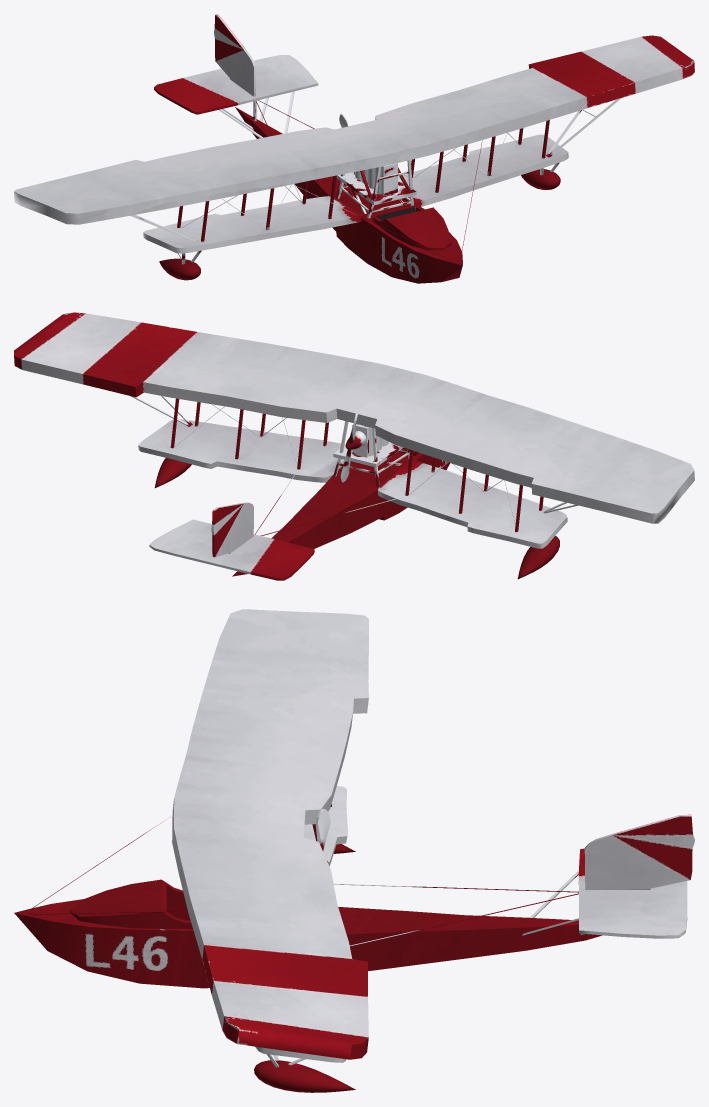
File: seaplane.glb
3 views of the same model, one above another, from view 1: azimuth 30°, elevation 25°; view 2: azimuth 150°, elevation 25°; view 3: azimuth 270°, elevation 25° (orthographic). The views are drawn at different scales.
Visible parts, largest first — view 1: Body; view 2: Body; view 3: Body.
Boxes of the visible parts, <box> form: Body: <box>14,14,694,283</box>; Body: <box>14,312,694,580</box>; Body: <box>14,609,694,1092</box>.
Bounding box in the file's own units: 3.1 × 0.5393 × 2.07.
Materials: 1 (1 with a texture image).
